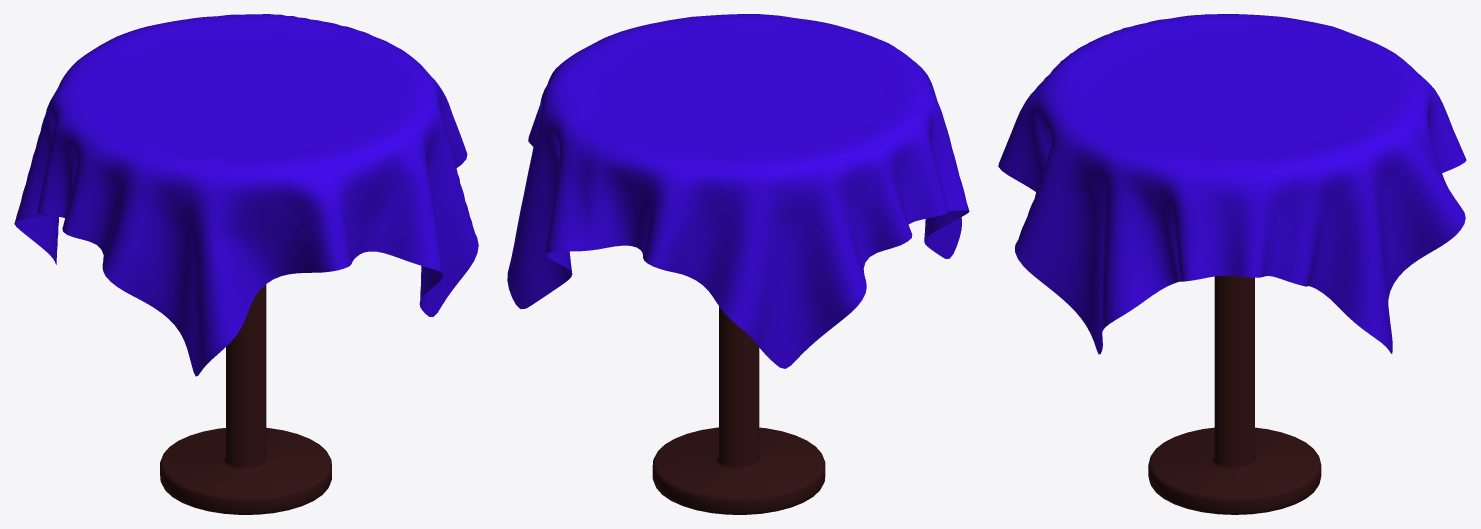
File: round_table.glb
3 views of the same model, side by side, from view 1: azimuth 30°, elevation 25°; view 2: azimuth 150°, elevation 25°; view 3: azimuth 270°, elevation 25° (orthographic).
Visible parts, largest first — view 1: Plane, Cylinder.001; view 2: Plane, Cylinder.001; view 3: Plane, Cylinder.001.
Part boxes in pixels (x1,y1,x2,y2): Plane: [14, 14, 478, 376]; Cylinder.001: [160, 284, 331, 514]; Plane: [507, 14, 969, 368]; Cylinder.001: [652, 306, 825, 514]; Plane: [998, 14, 1466, 354]; Cylinder.001: [1148, 275, 1321, 514].
Size of the model in its own units: 2.43 by 2.29 by 2.49.
